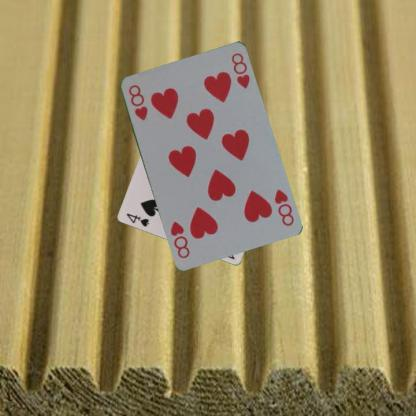4s: (124, 210, 151, 228)
8h: (125, 82, 149, 122), (272, 186, 295, 227)
